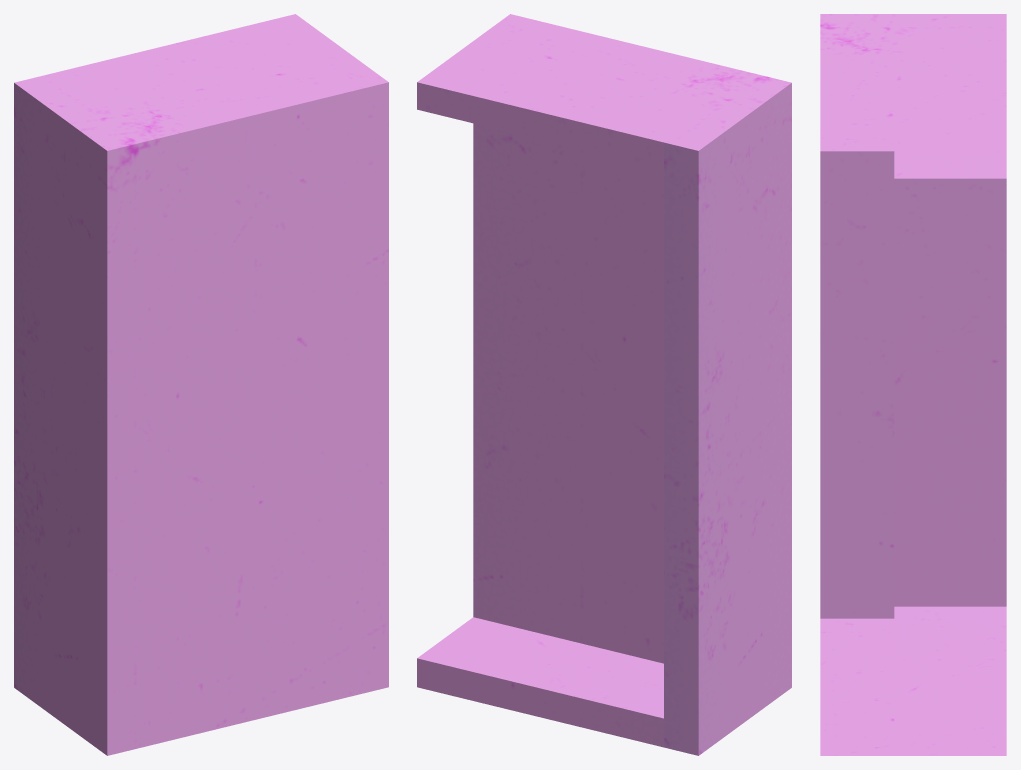
Rendered from EndCap_01_SM_Low.fbx.
3 views of the same model, side by side, from view 1: azimuth 30°, elevation 25°; view 2: azimuth 150°, elevation 25°; view 3: azimuth 270°, elevation 25° (orthographic).
Visible parts, largest first — view 1: EndCapBottom_Geo; view 2: EndCapBottom_Geo; view 3: EndCapBottom_Geo.
Boxes of the visible parts, x1,y1,x2,y2 form: EndCapBottom_Geo: [14, 14, 388, 755]; EndCapBottom_Geo: [417, 14, 791, 755]; EndCapBottom_Geo: [820, 14, 1006, 755].
Size of the model in its own units: 10.46 by 21.46 by 6.
Materials: 1 (1 with a texture image).
